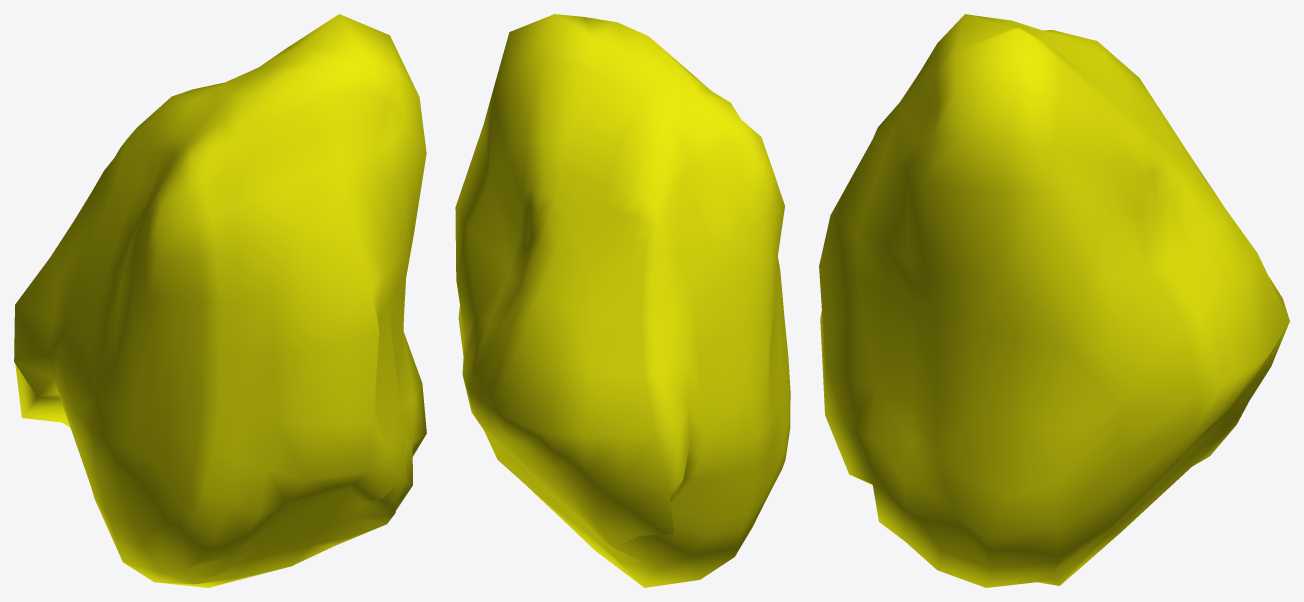
The model's file is SM_Rock3.fbx.
3 views of the same model, side by side, from view 1: azimuth 30°, elevation 25°; view 2: azimuth 150°, elevation 25°; view 3: azimuth 270°, elevation 25° (orthographic). The views are drawn at different scales.
Parts seen in each view (by area): view 1: RockThreeLow; view 2: RockThreeLow; view 3: RockThreeLow.
Part boxes in pixels (x1,y1,x2,y2): RockThreeLow: (14,14,426,587); RockThreeLow: (455,14,790,587); RockThreeLow: (819,14,1289,587).
Bounding box in the file's own units: 1.26 × 2.16 × 1.49.
